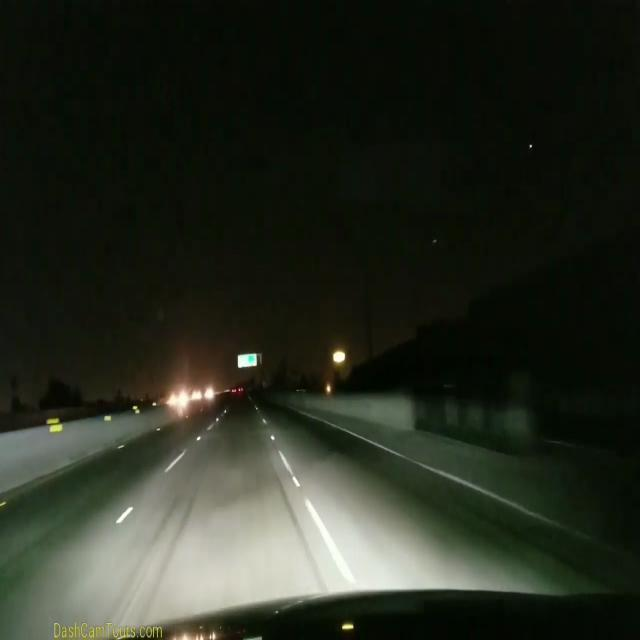street-signs: (237, 352, 257, 368)
